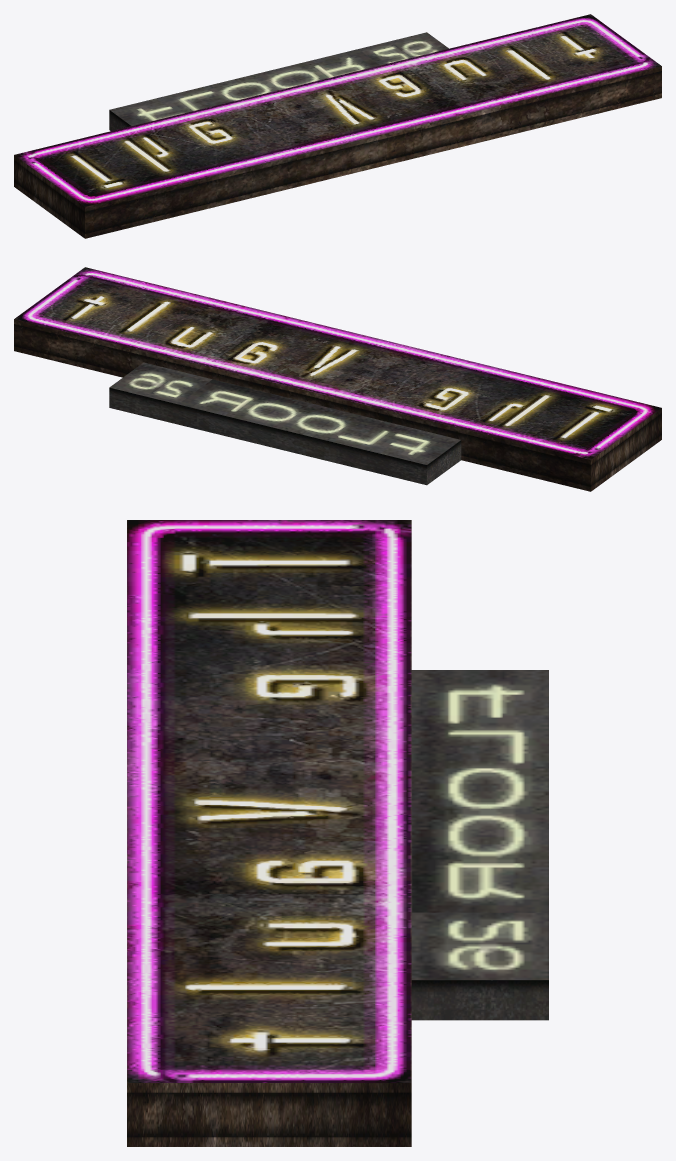
Rendered from thevault_floor.fbx.
The picture shows the model from 3 angles, top to bottom: view 1: azimuth 30°, elevation 25°; view 2: azimuth 150°, elevation 25°; view 3: azimuth 270°, elevation 25°; orthographic projection. The views are drawn at different scales.
Visible parts, largest first — view 1: mesh_2, mesh_0; view 2: mesh_2, mesh_0, mesh_1; view 3: mesh_2, mesh_0, mesh_1.
Part boxes in pixels (x1,y1,x2,y2): mesh_2: (14, 14, 661, 238); mesh_0: (109, 32, 448, 125); mesh_2: (14, 267, 661, 491); mesh_0: (109, 362, 460, 464); mesh_1: (109, 387, 461, 485); mesh_2: (127, 520, 411, 1146); mesh_0: (411, 670, 548, 979); mesh_1: (411, 980, 548, 1020).
Bounding box in the file's own units: 298 × 15.72 × 94.17.
Materials: 3 (3 with a texture image).
